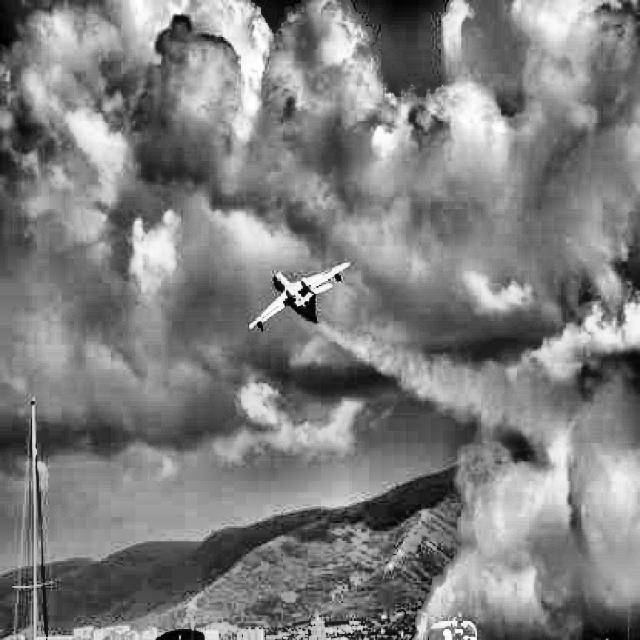Be200: (249, 262, 349, 332)
